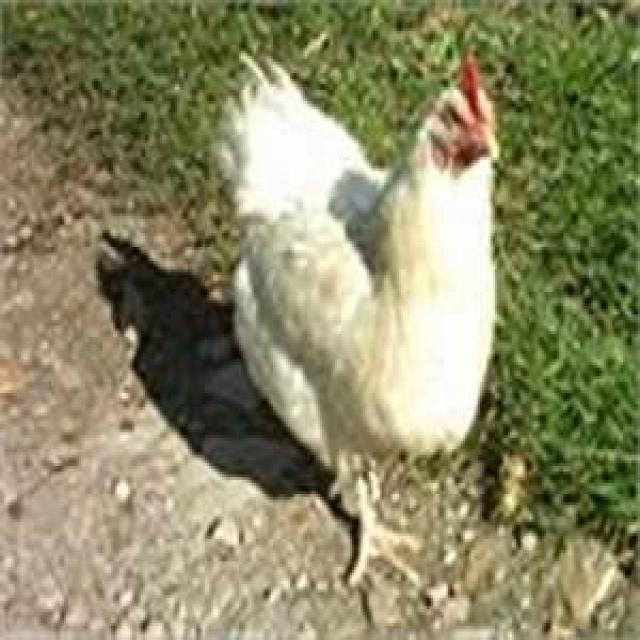animal: (192, 16, 574, 568)
